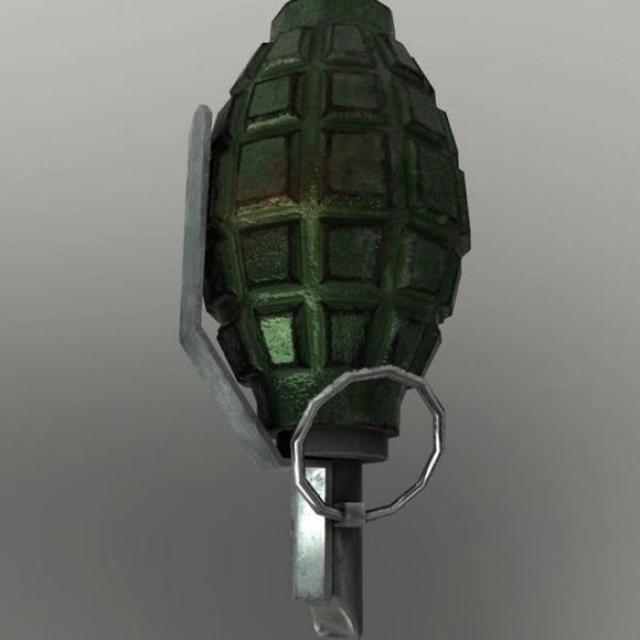grenade: (181, 2, 474, 640)
